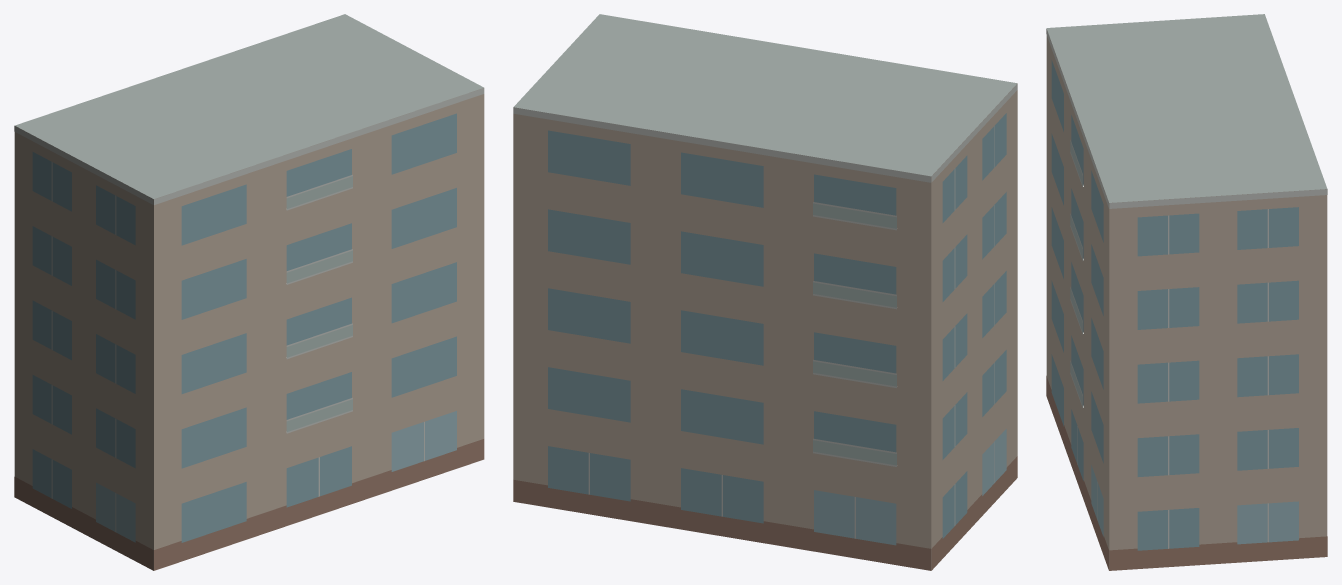
The model's file is survey-upis-32894582.glb.
The picture shows the model from 3 angles, left to right: view 1: azimuth 30°, elevation 25°; view 2: azimuth 150°, elevation 25°; view 3: azimuth 270°, elevation 25°; orthographic projection. The views are drawn at different scales.
Visible parts, largest first — view 1: survey-upis-32894582.tmp; view 2: survey-upis-32894582.tmp; view 3: survey-upis-32894582.tmp.
Boxes of the visible parts, x1=… form: survey-upis-32894582.tmp: x1=14, y1=14, x2=484, y2=570; survey-upis-32894582.tmp: x1=513, y1=14, x2=1017, y2=570; survey-upis-32894582.tmp: x1=1046, y1=14, x2=1327, y2=570.
Bounding box in the file's own units: 16.42 × 14.9 × 10.32.
